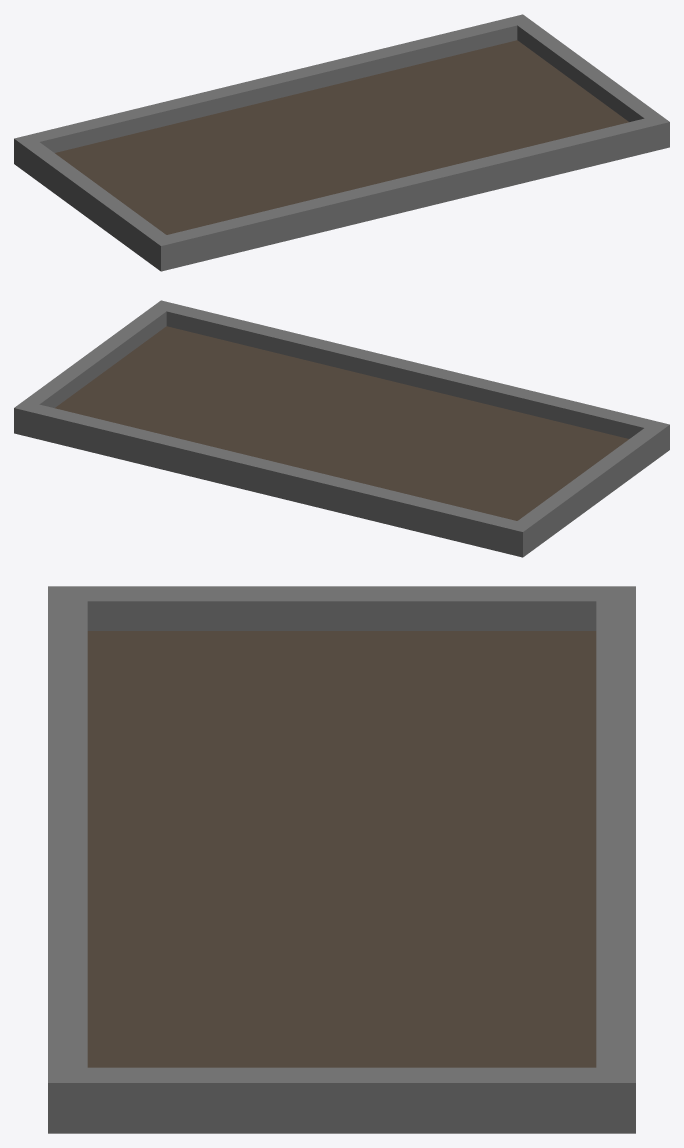
The model's file is flowerbed_1.fbx.
3 renders of one model, top to bottom at view 1: azimuth 30°, elevation 25°; view 2: azimuth 150°, elevation 25°; view 3: azimuth 270°, elevation 25°, orthographic. The views are drawn at different scales.
Parts seen in each view (by area): view 1: flowerbed_1; view 2: flowerbed_1; view 3: flowerbed_1.
Boxes of the visible parts, x1,y1,x2,y2 form: flowerbed_1: [14, 14, 669, 271]; flowerbed_1: [14, 300, 669, 557]; flowerbed_1: [48, 586, 635, 1133].
Size of the model in its own units: 335 by 15.99 by 167.
